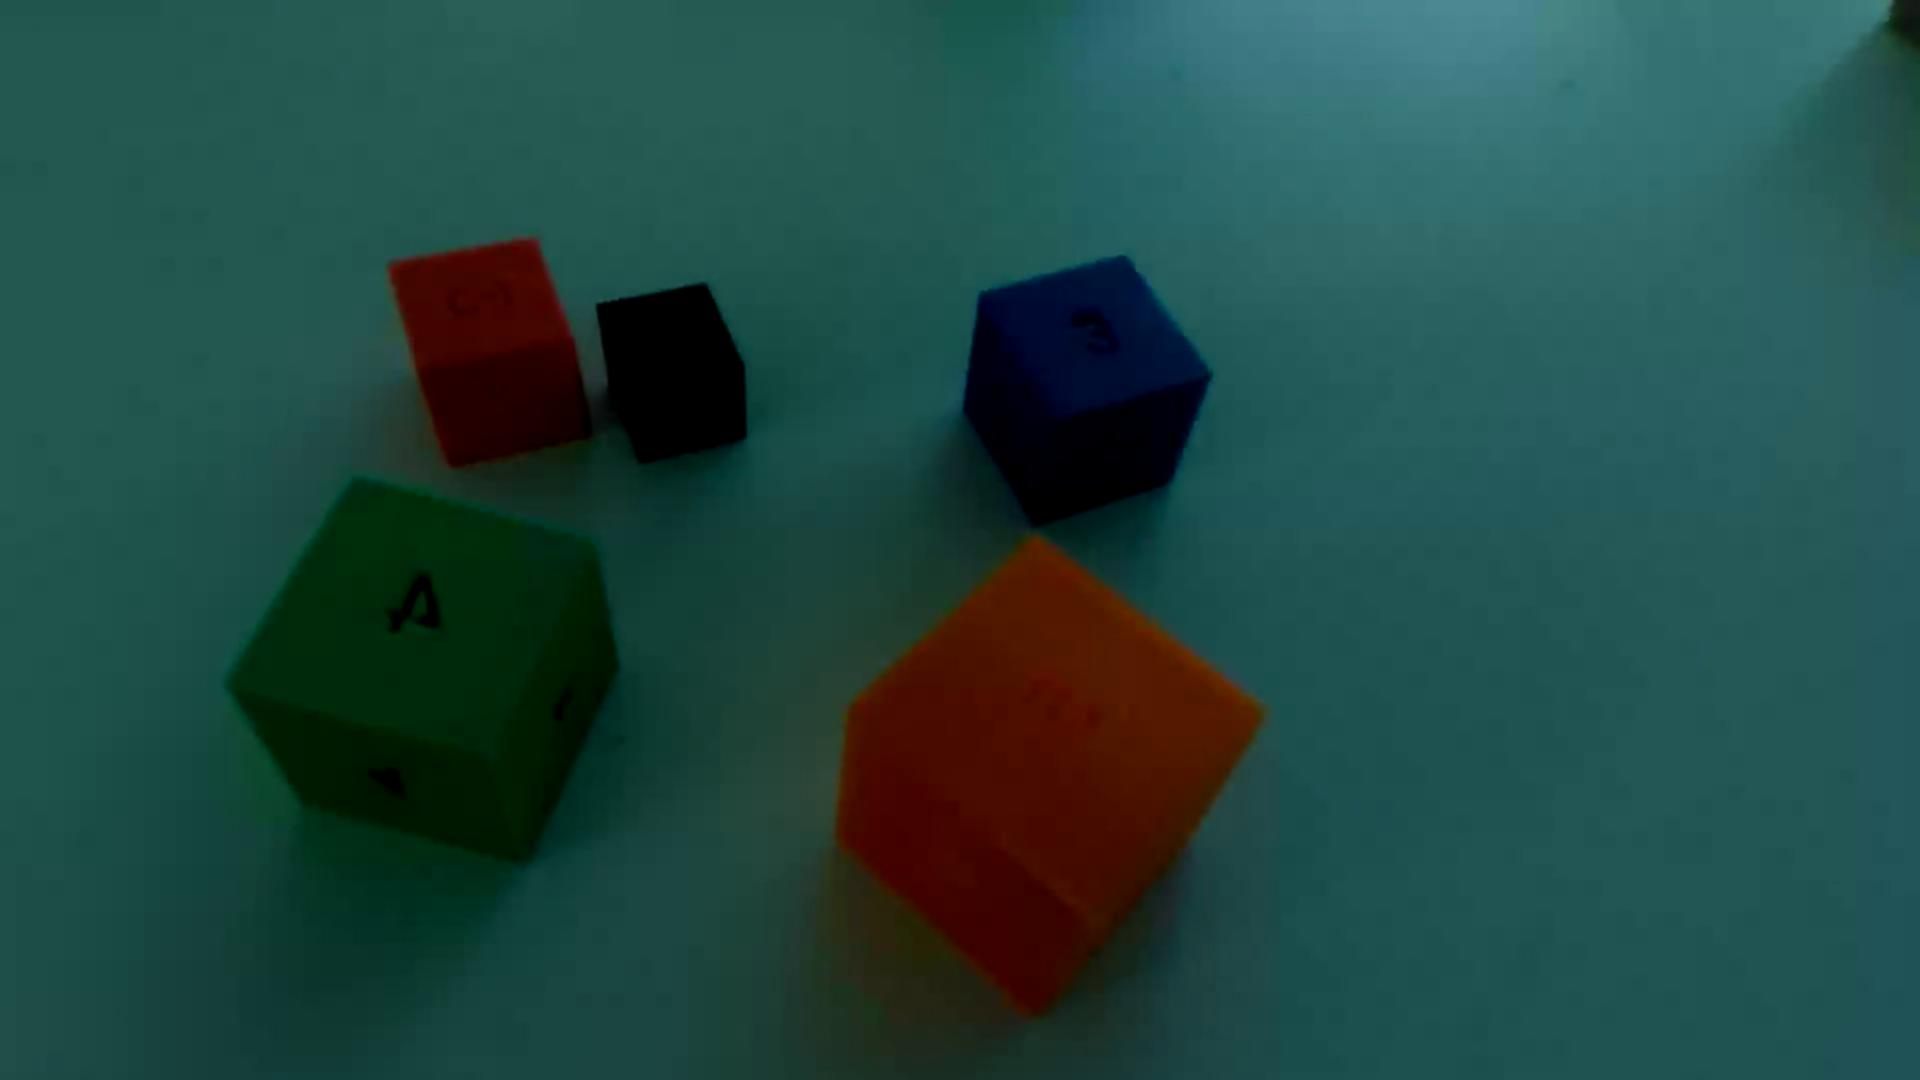black: (597, 285, 748, 463)
blue: (964, 258, 1211, 526)
green: (229, 480, 618, 860)
orange: (837, 541, 1261, 1011)
red: (390, 239, 591, 467)
